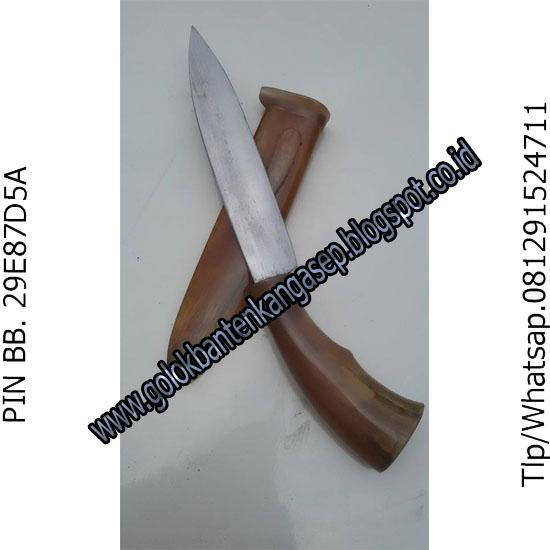facao: (189, 27, 423, 470)
